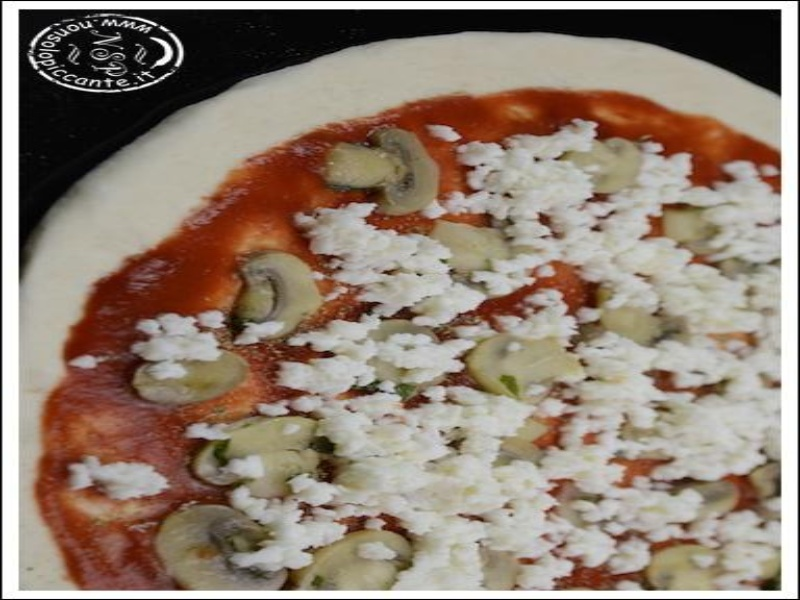champignon: (317, 118, 465, 222), (218, 251, 333, 351)
